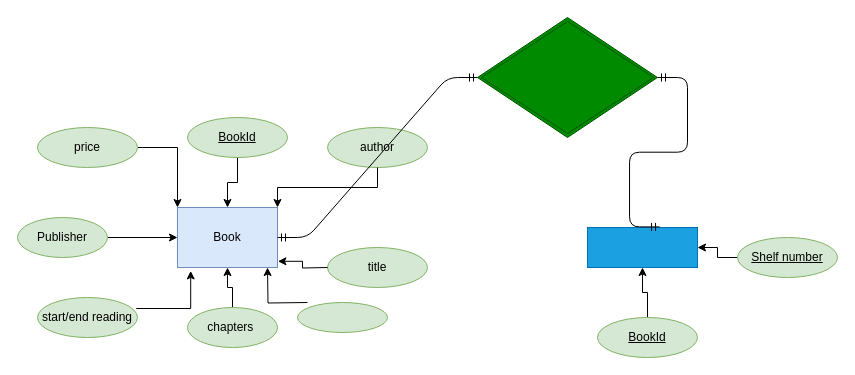
Image size: 855x375. Some labels were removed from this diagram. Here are the shapes that lost their labels. From the top down, the centre of each, then its label:
At [567,77]: "Put on the library shelf".
At [642,247]: "library".
At [342,317]: "description".
